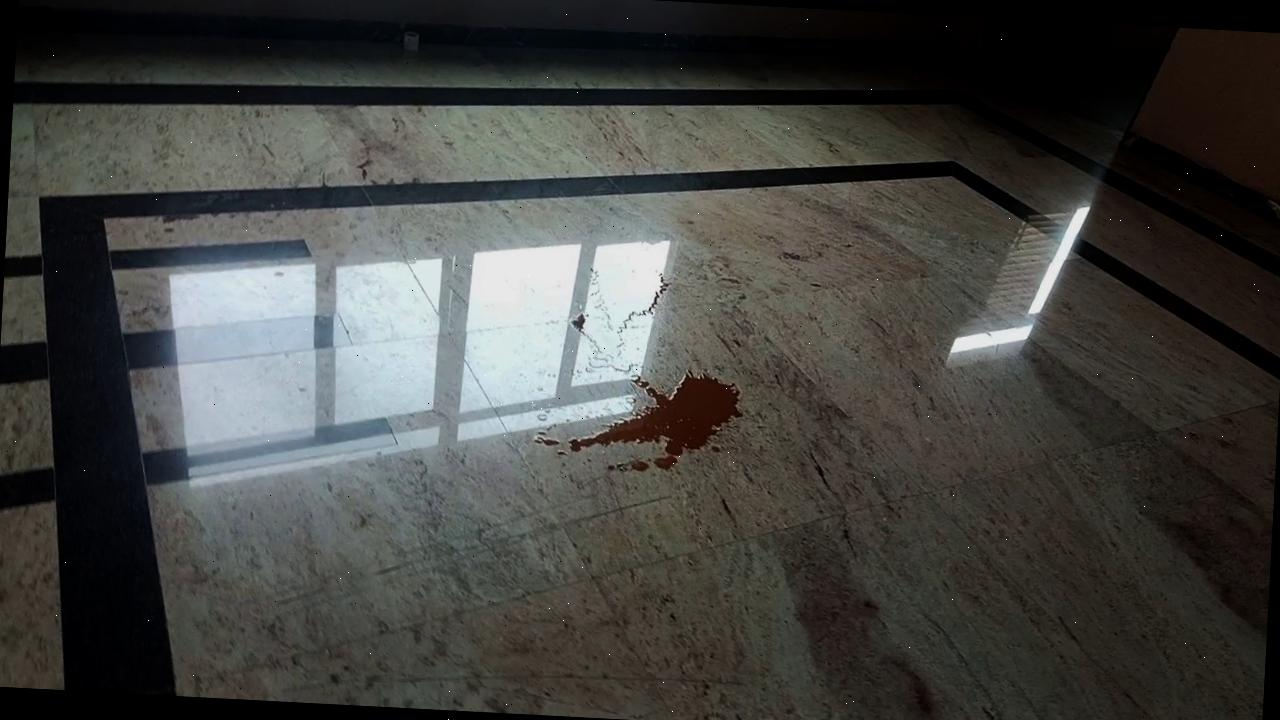dirty_floor: (538, 242, 757, 483)
